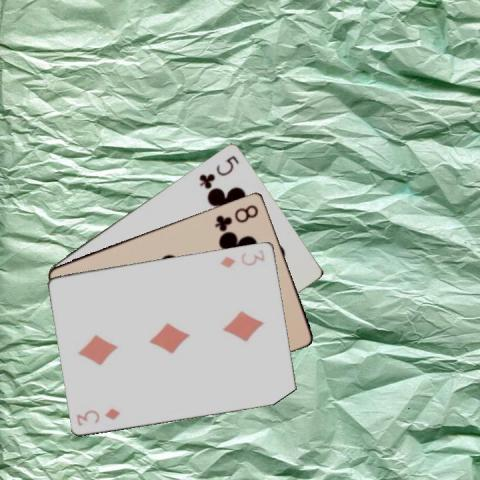3d: (217, 246, 267, 269), (74, 405, 122, 427)
5c: (196, 152, 241, 189)
8c: (211, 202, 260, 232)
